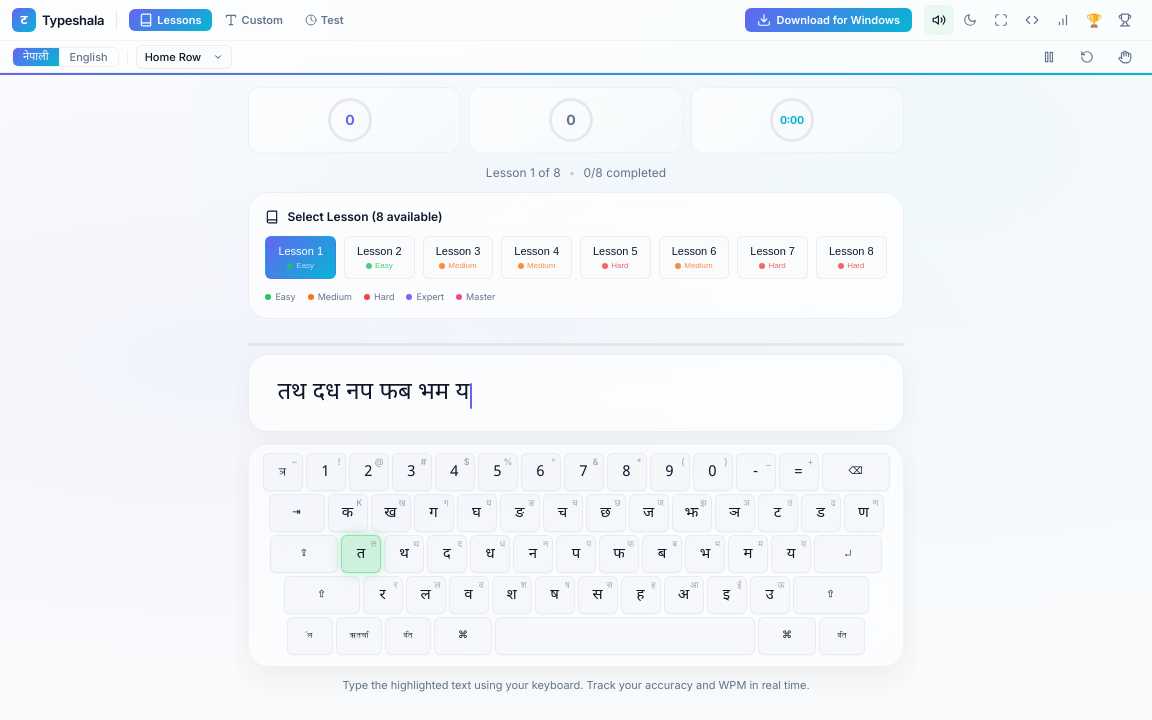
Test: TypingTutor Integration › statistics and achievements panels › opens statistics panel
Click the button titled "Stats" at [1063, 20], box [1048,5,1078,35]
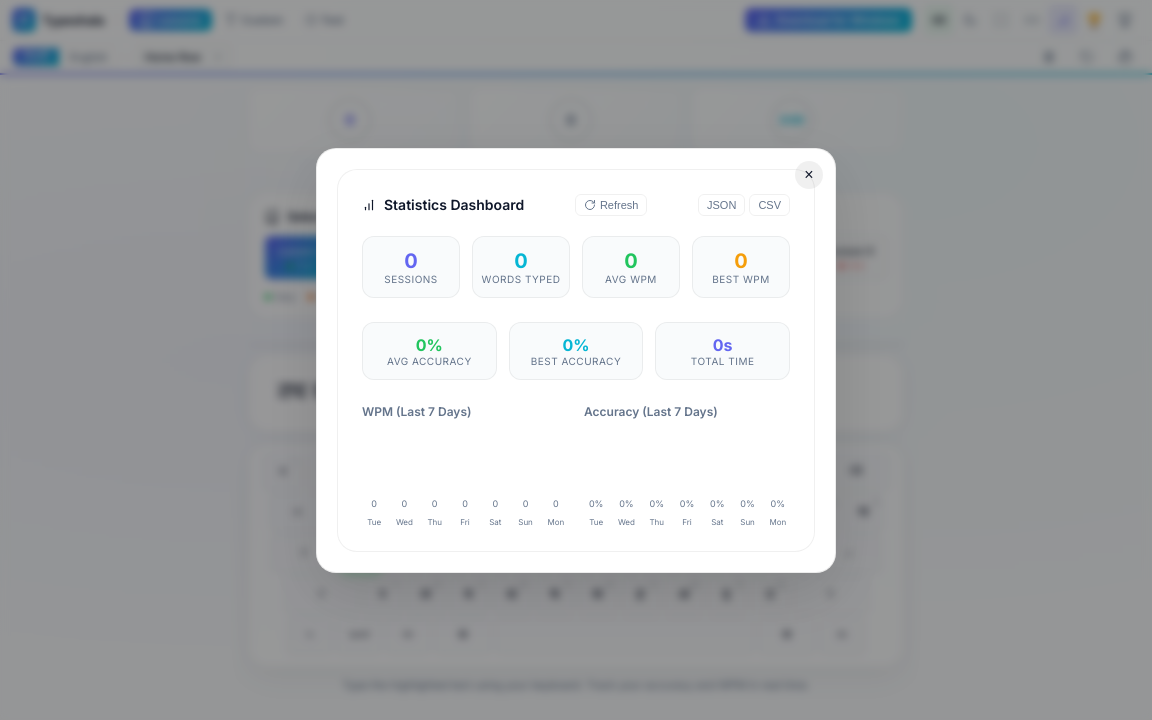
Check: the text "Statistics Dashboard" is shown, box [362,196,524,213]
